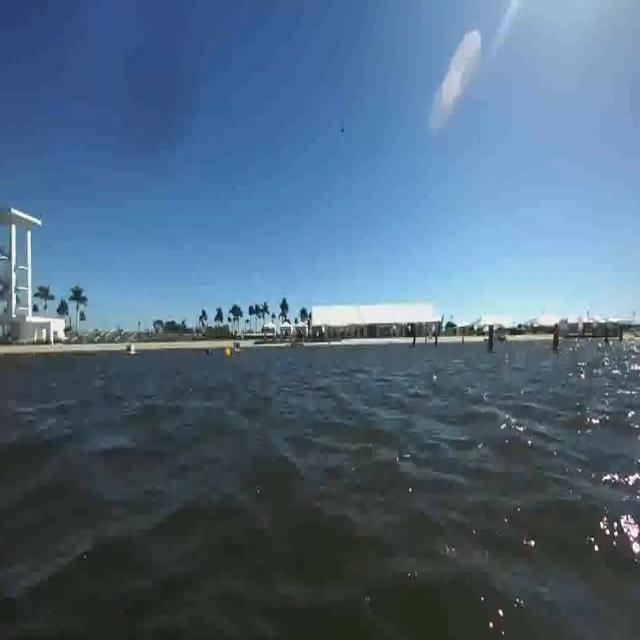yellow-buoy: (224, 346, 231, 358)
